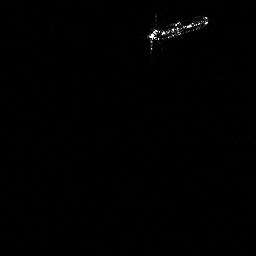ship: (148, 15, 209, 52)
